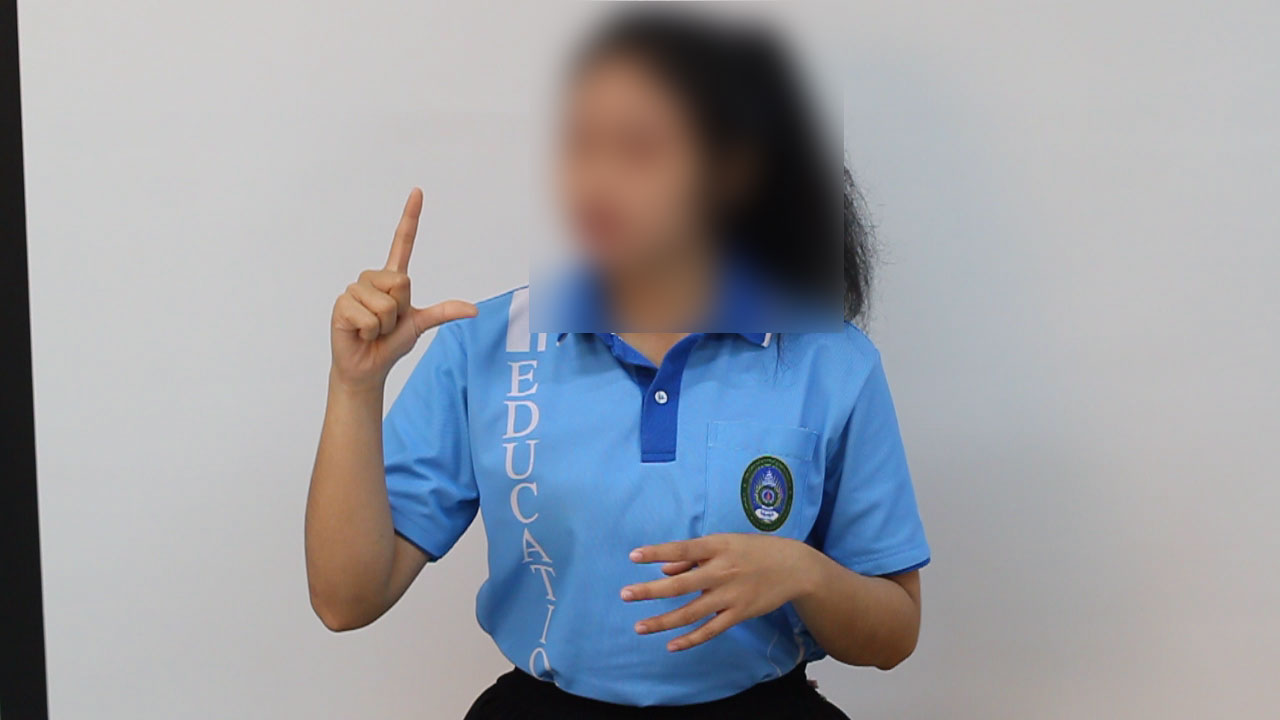lor: (318, 169, 499, 391)
